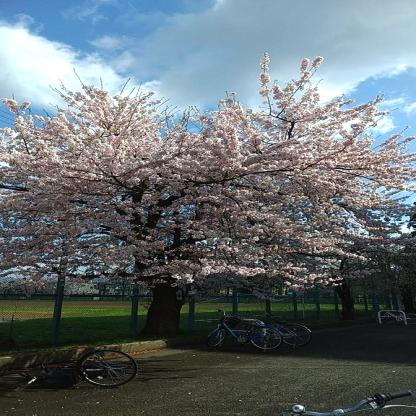Someiyoshino: (4, 57, 410, 293)
